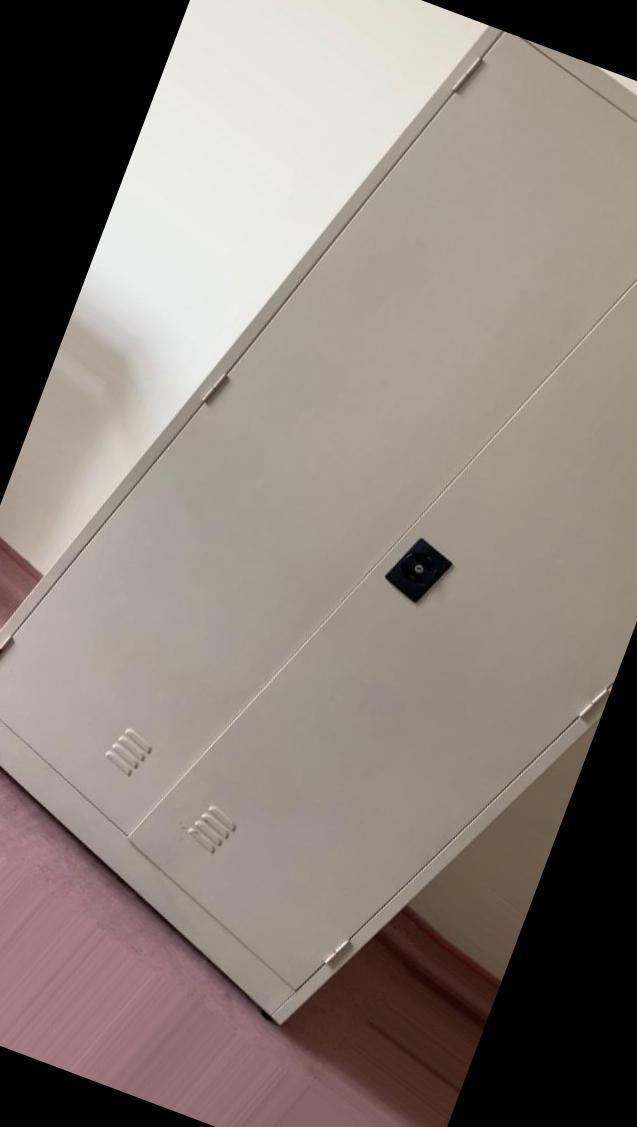Armario: (0, 0, 637, 1099)
